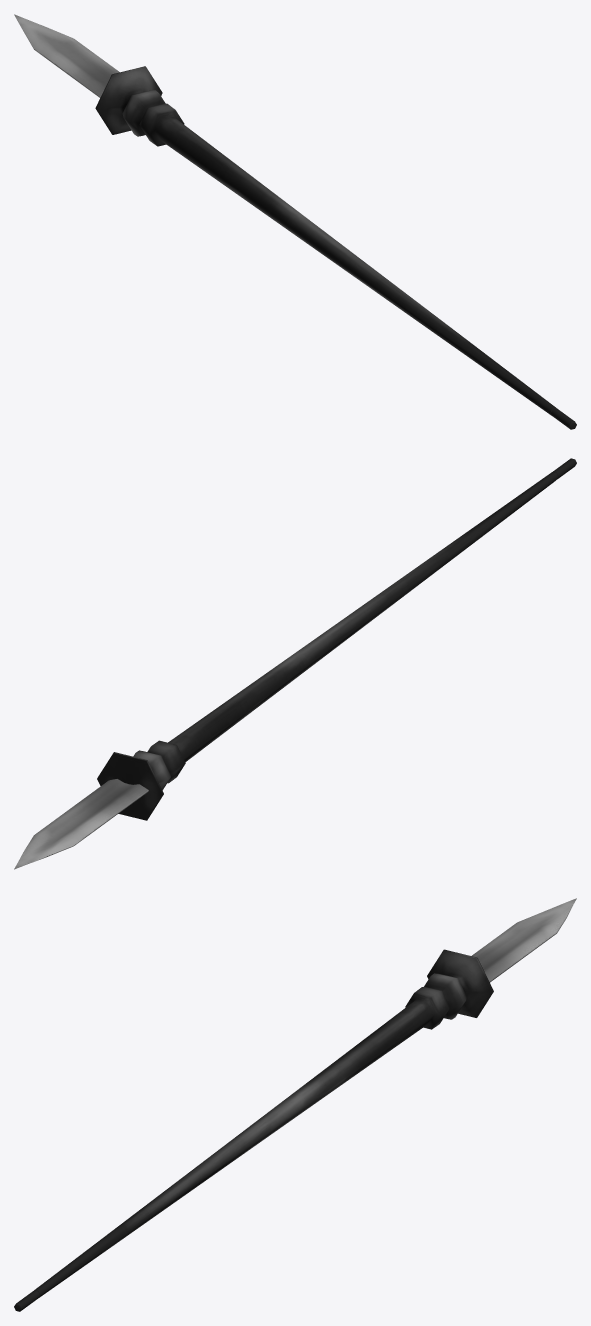
Rendered from Lanza Fin.FBX.
3 renders of one model, top to bottom at view 1: azimuth 30°, elevation 25°; view 2: azimuth 150°, elevation 25°; view 3: azimuth 330°, elevation 25°, orthographic.
Visible parts, largest first — view 1: Lance; view 2: Lance; view 3: Lance.
Part boxes in pixels (x1,y1,x2,y2): Lance: [14, 14, 576, 429]; Lance: [14, 458, 576, 869]; Lance: [14, 898, 576, 1311].
Size of the model in its own units: 1.68 by 1.45 by 24.38.
Materials: 1 (1 with a texture image).
